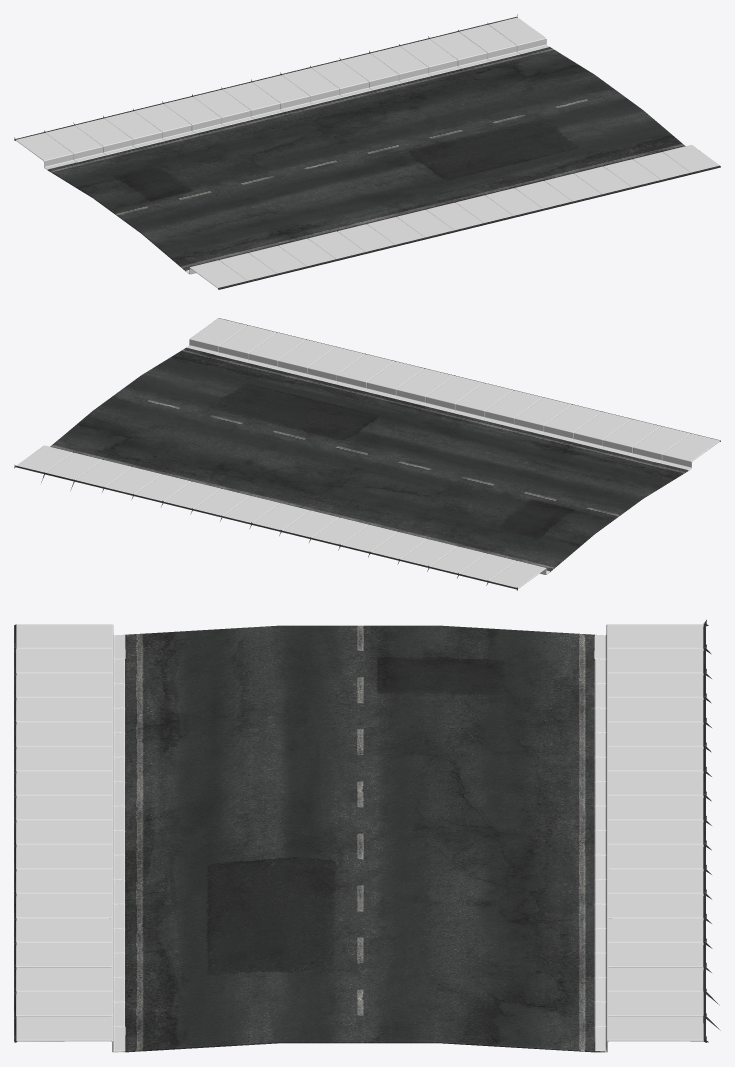
Rendered from road.fbx.
The picture shows the model from 3 angles, top to bottom: view 1: azimuth 30°, elevation 25°; view 2: azimuth 150°, elevation 25°; view 3: azimuth 270°, elevation 25°; orthographic projection. The views are drawn at different scales.
Parts seen in each view (by area): view 1: road; view 2: road; view 3: road.
Part boxes in pixels (bbox=[...]): road: bbox=[14, 14, 720, 289]; road: bbox=[14, 318, 720, 590]; road: bbox=[14, 620, 720, 1052].
Bounding box in the file's own units: 1201 × 26.26 × 861.
